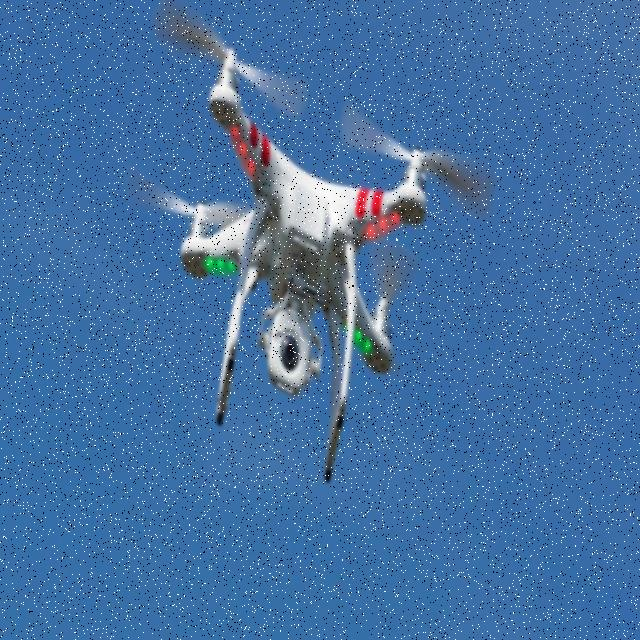UAV: (176, 44, 430, 490)
